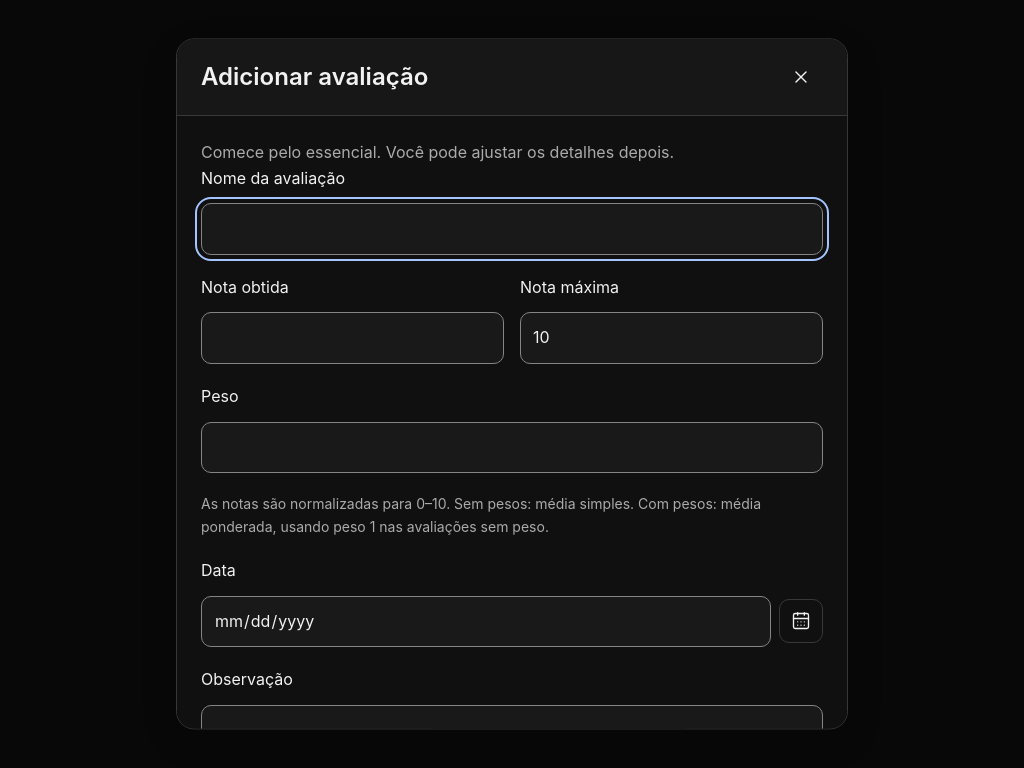
Test case: validação e teclado dos formulários de estudo › rejeita nota acima do máximo sem perder avaliação nem rascunho
Step 1. Type "Prova final" into the field labelled "Nome da avaliação" → (512,229), box [201, 204, 823, 255]
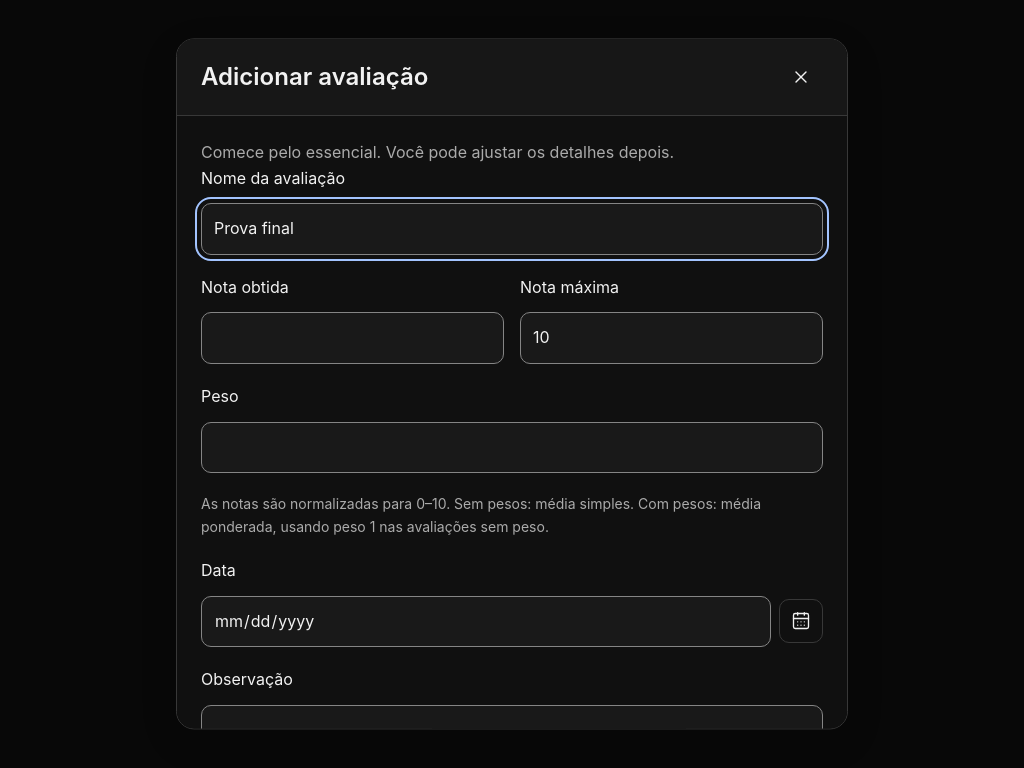
Step 2. Type "11" into the number field labelled "Nota obtida" → (352,339), box [201, 313, 504, 364]
(page scrolled)
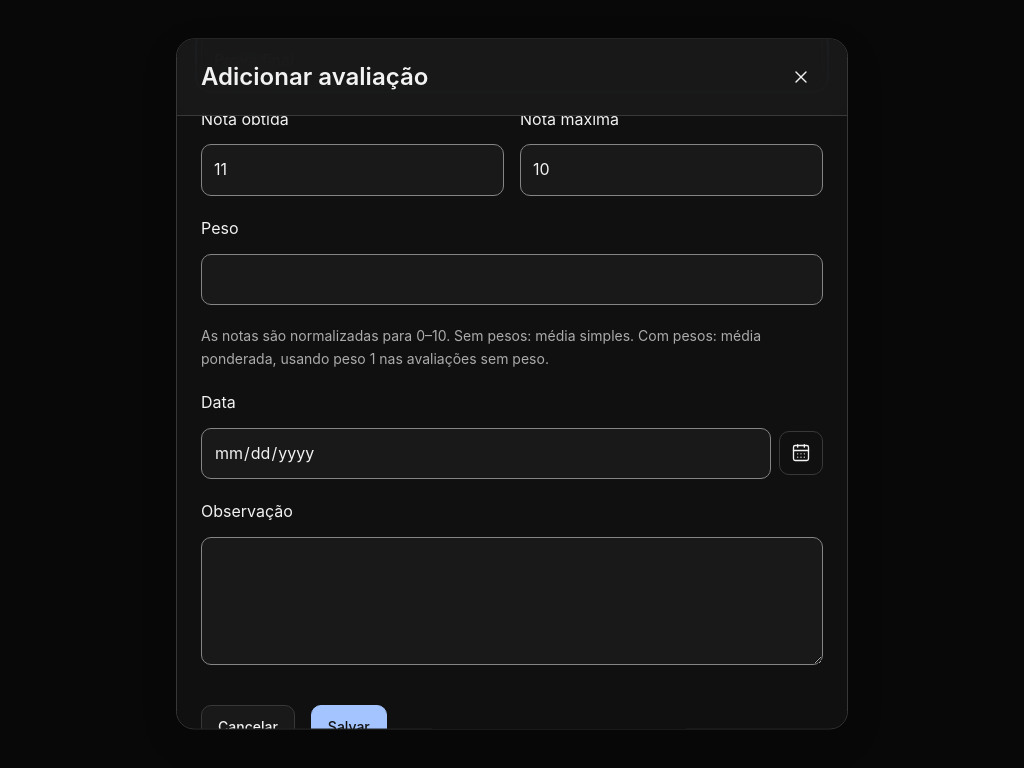
Step 3. Submit the form named "Salvar"
(page scrolled)
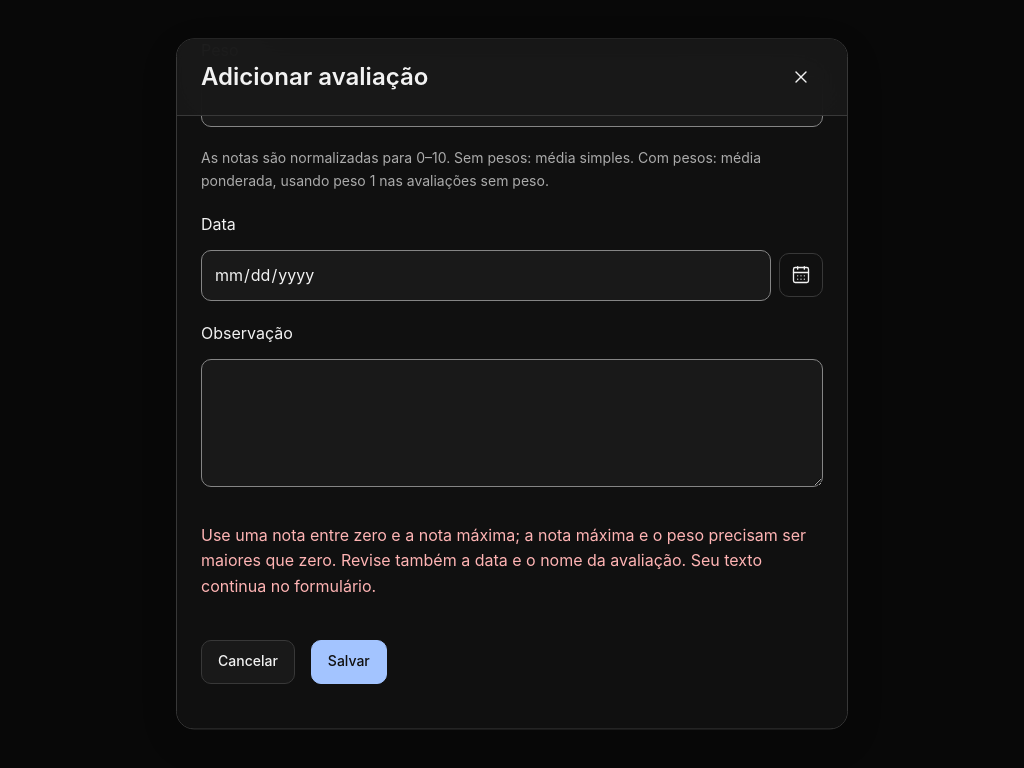
Now the message is not empty, box [201, 523, 823, 600]
